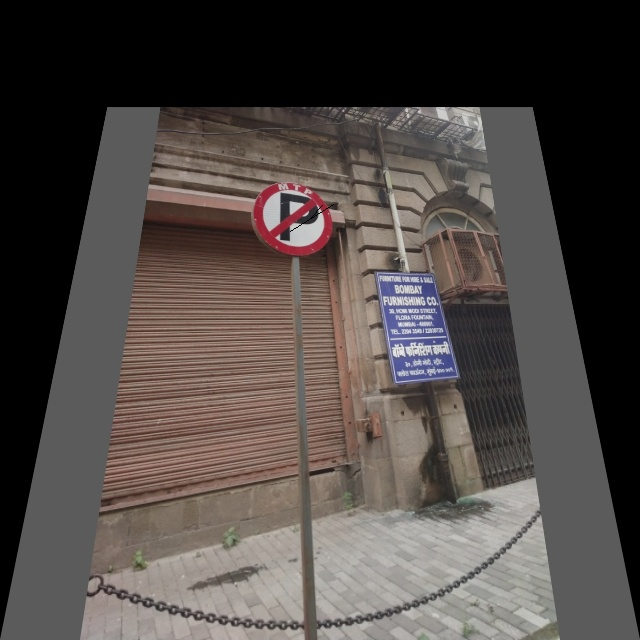No_Parking: (249, 178, 335, 257)
